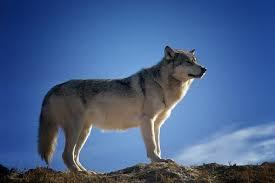Wolf: (37, 44, 208, 173)
